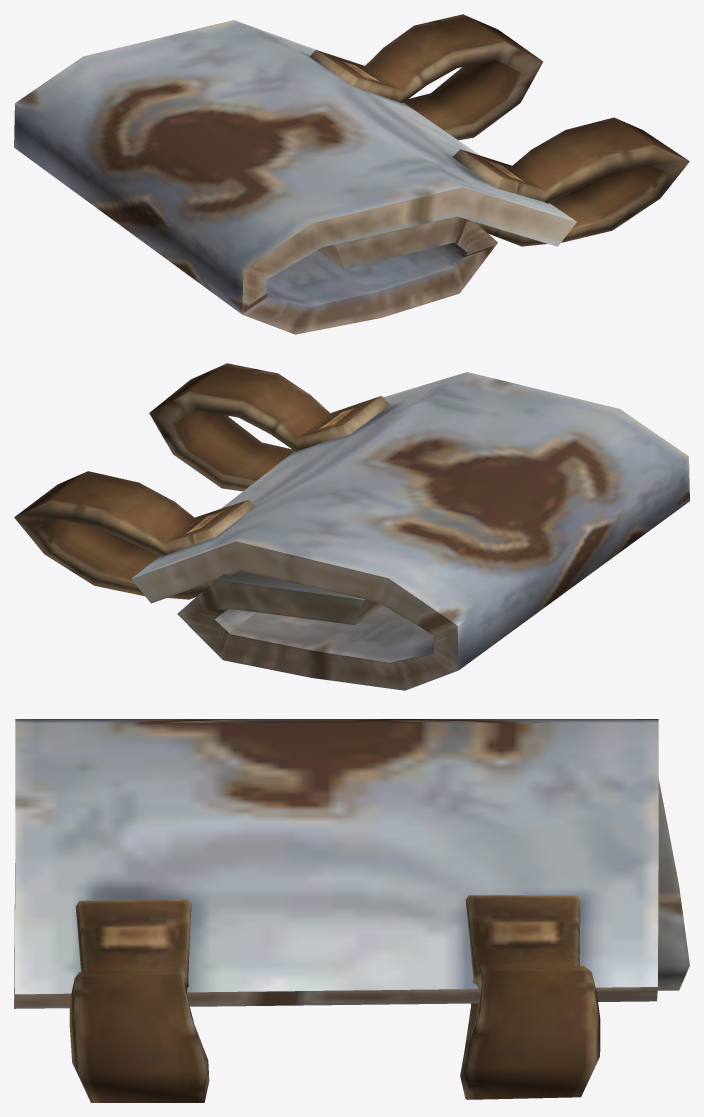
File: wt_scroll_01.obj
The picture shows the model from 3 angles, top to bottom: view 1: azimuth 30°, elevation 25°; view 2: azimuth 150°, elevation 25°; view 3: azimuth 270°, elevation 25°; orthographic projection. The views are drawn at different scales.
Visible parts, largest first — view 1: wt_scroll_01; view 2: wt_scroll_01; view 3: wt_scroll_01.
Boxes of the visible parts, box(x1,y1,x2,y2) form: wt_scroll_01: box(14, 14, 689, 334); wt_scroll_01: box(14, 363, 689, 690); wt_scroll_01: box(14, 719, 689, 1102).
Size of the model in its own units: 1.01 by 0.235 by 0.8948.
Materials: 1 (1 with a texture image).
